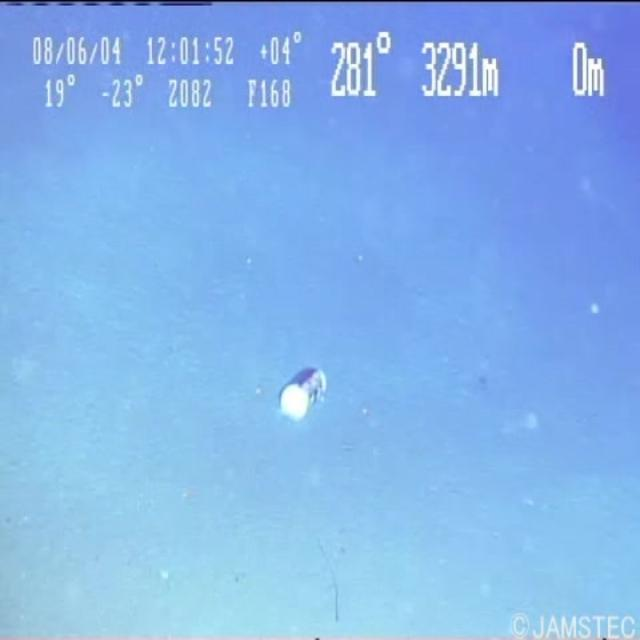Metal: (263, 351, 338, 438)
